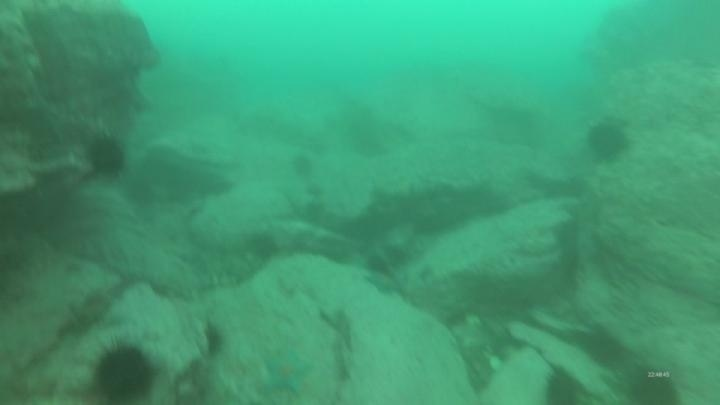echinus: (87, 338, 159, 404), (624, 361, 682, 405), (584, 117, 632, 164), (83, 132, 129, 180), (580, 327, 627, 370), (540, 365, 585, 405), (244, 229, 281, 264), (122, 175, 158, 209), (200, 320, 228, 361), (289, 152, 316, 179)
starfish: (259, 347, 314, 399), (362, 268, 404, 299)
